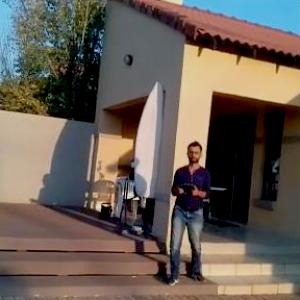follow: (162, 136, 212, 288)
